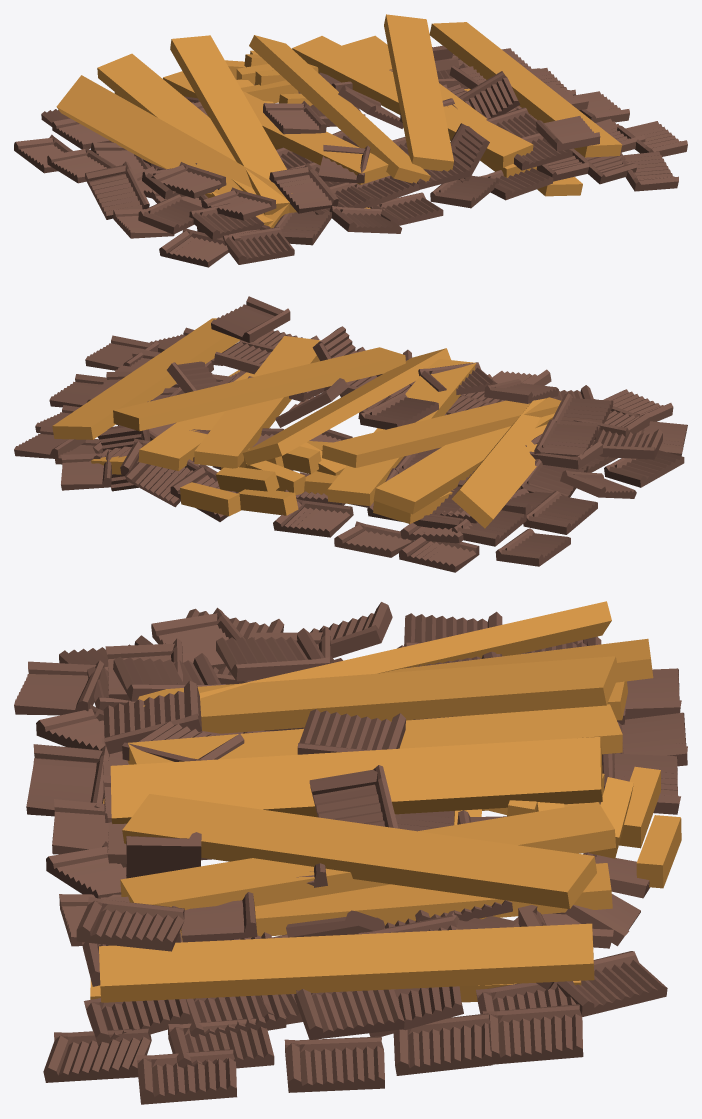
3 views of the same model, one above another, from view 1: azimuth 30°, elevation 25°; view 2: azimuth 150°, elevation 25°; view 3: azimuth 270°, elevation 25° (orthographic). The views are drawn at different scales.
Parts seen in each view (by area): view 1: mesh_1823289871, mesh_540791932, mesh_2008764315, mesh_421005403, mesh_888295025, mesh_565576284, mesh_325407161, mesh_285455005, mesh_470908666, mesh_1401834746, mesh_1065527157, mesh_611688950 (+38 smaller); view 2: mesh_2008764315, mesh_540791932, mesh_888295025, mesh_421005403, mesh_1823289871, mesh_325407161, mesh_565576284, mesh_285455005, mesh_1317710352, mesh_309936585, mesh_1303145390, mesh_1947338868 (+42 smaller); view 3: mesh_888295025, mesh_565576284, mesh_2008764315, mesh_540791932, mesh_421005403, mesh_285455005, mesh_1823289871, mesh_1317710352, mesh_418076839, mesh_1892047310, mesh_1049994941, mesh_1031716084 (+44 smaller).
Part boxes in pixels (x1,y1,x2,y2): mesh_1823289871: [56, 75, 292, 228]; mesh_540791932: [170, 35, 296, 215]; mesh_2008764315: [384, 14, 453, 171]; mesh_421005403: [292, 36, 533, 167]; mesh_888295025: [429, 22, 622, 157]; mesh_565576284: [249, 35, 430, 183]; mesh_325407161: [97, 53, 256, 194]; mesh_285455005: [163, 71, 389, 184]; mesh_470908666: [85, 161, 149, 219]; mesh_1401834746: [269, 163, 338, 213]; mesh_1065527157: [223, 227, 294, 264]; mesh_611688950: [159, 228, 228, 267]; mesh_2008764315: [113, 347, 405, 431]; mesh_540791932: [322, 397, 561, 467]; mesh_888295025: [52, 318, 239, 439]; mesh_421005403: [194, 336, 320, 468]; mesh_1823289871: [452, 398, 546, 528]; mesh_325407161: [373, 413, 554, 514]; mesh_565576284: [242, 348, 450, 465]; mesh_285455005: [327, 359, 476, 506]; mesh_1317710352: [138, 372, 253, 471]; mesh_309936585: [211, 296, 290, 342]; mesh_1303145390: [273, 499, 353, 537]; mesh_1947338868: [523, 491, 597, 534]; mesh_888295025: [99, 923, 594, 1002]; mesh_565576284: [110, 737, 602, 823]; mesh_2008764315: [122, 794, 596, 909]; mesh_540791932: [138, 656, 619, 733]; mesh_421005403: [120, 802, 615, 909]; mesh_285455005: [127, 704, 622, 764]; mesh_1823289871: [143, 601, 611, 706]; mesh_1317710352: [180, 863, 612, 941]; mesh_418076839: [284, 1036, 384, 1092]; mesh_1892047310: [482, 1004, 583, 1064]; mesh_1049994941: [393, 1013, 492, 1075]; mesh_1031716084: [136, 1049, 236, 1104].
Bounding box in the file's own units: 411 × 78.02 × 272.
